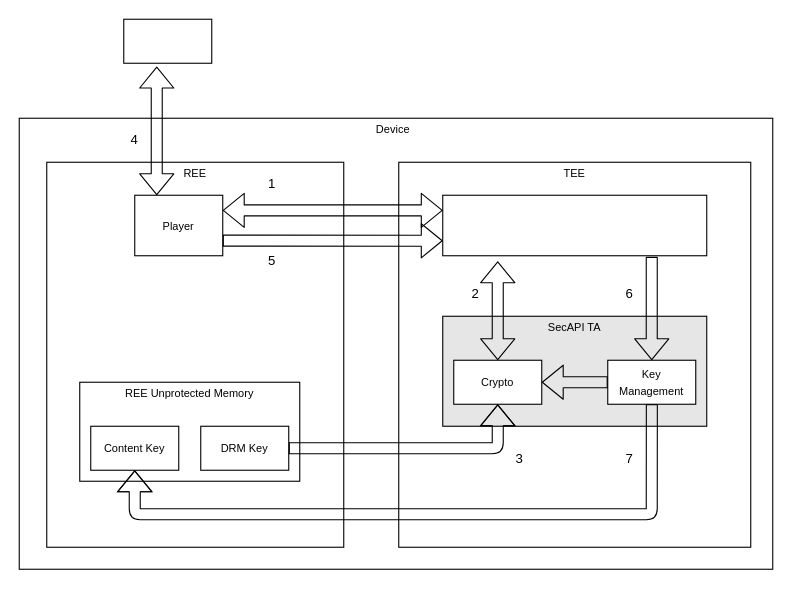
The diagram is 792 pixels wide and 589 high, and some of its shapes have lost their labels. The centre of each missing label's shape, as x and y in pixels:
"DRM TA" belongs at [574,225].
"License Server" belongs at [167,40].
